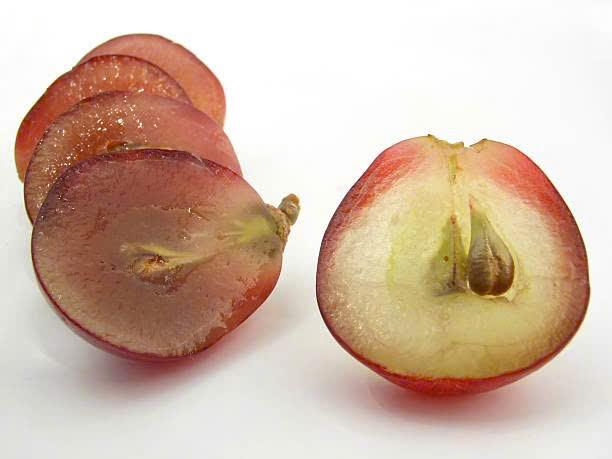grape: (13, 62, 308, 349), (332, 152, 612, 381)
